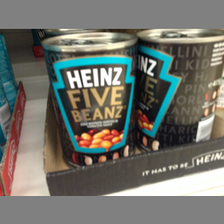beans: (45, 32, 138, 166), (141, 28, 224, 151)
